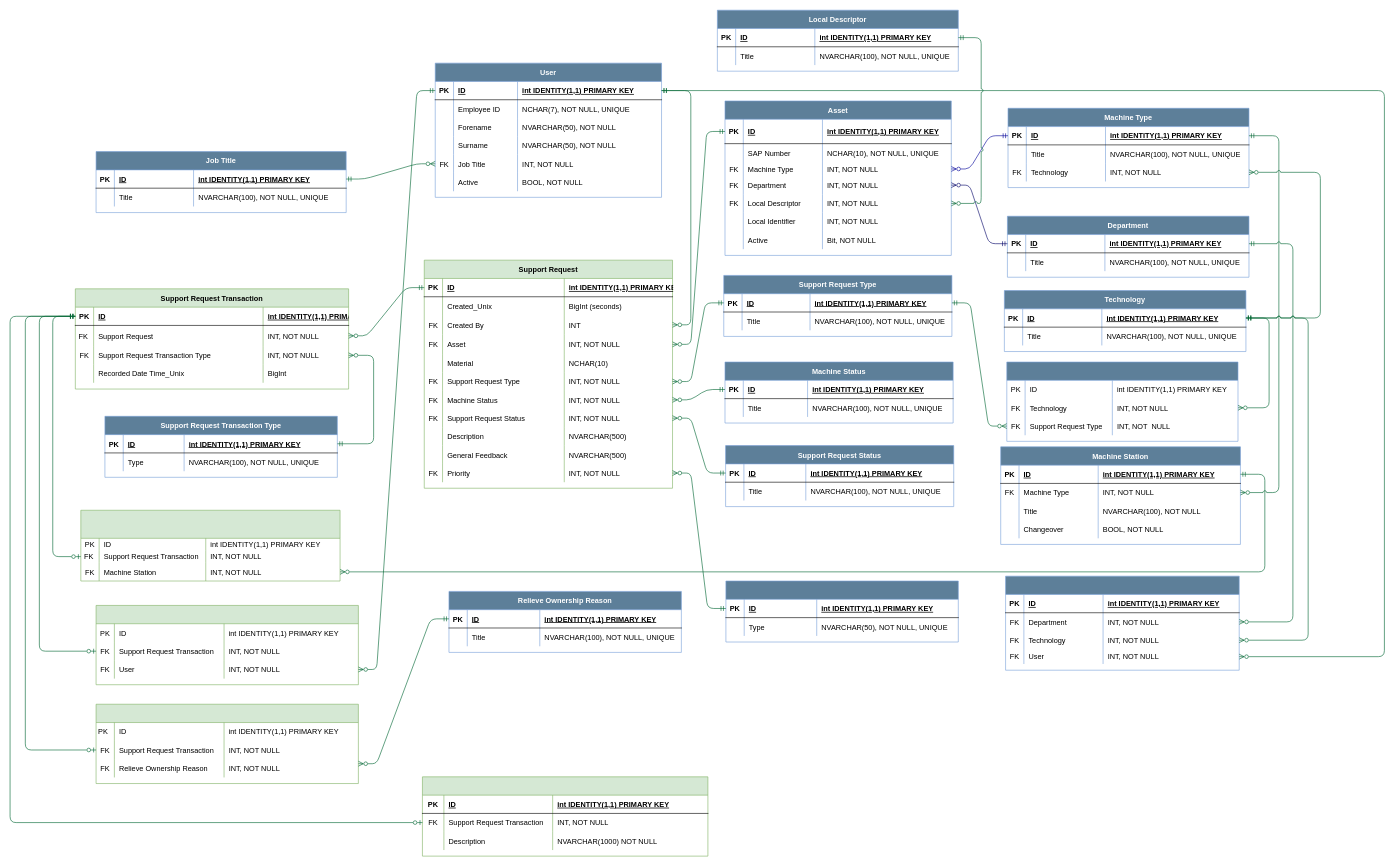
The diagram is 1394 pixels wide and 866 high, and some of its shapes have lost their labels. Each missing label, with the box of its shape:
Escalation Figure: (1005, 576, 1239, 670)
Prirority: (725, 580, 958, 642)
Support Request Affected Machine Station: (80, 510, 340, 581)
Support Request Relieve Ownership: (95, 704, 358, 784)
Support Request Resource: (95, 605, 358, 685)
Support Request Technical Info: (422, 776, 708, 856)
Support Request Type By Technology: (1006, 361, 1238, 441)
